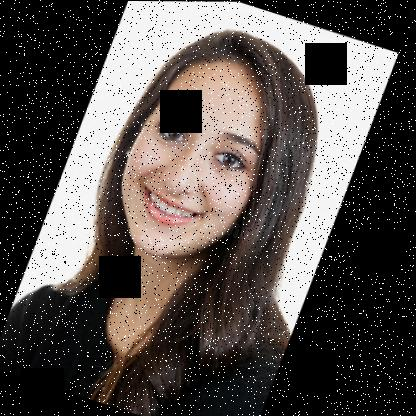Female: (92, 40, 296, 274)
